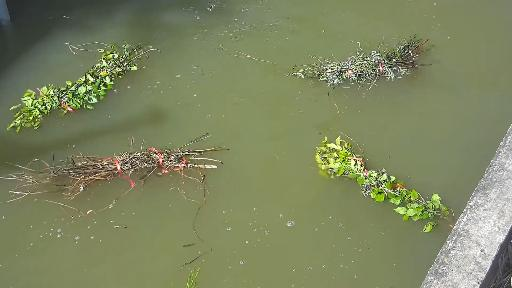twig: (315, 132, 446, 234), (41, 133, 211, 209), (0, 43, 141, 132), (278, 32, 423, 98)
